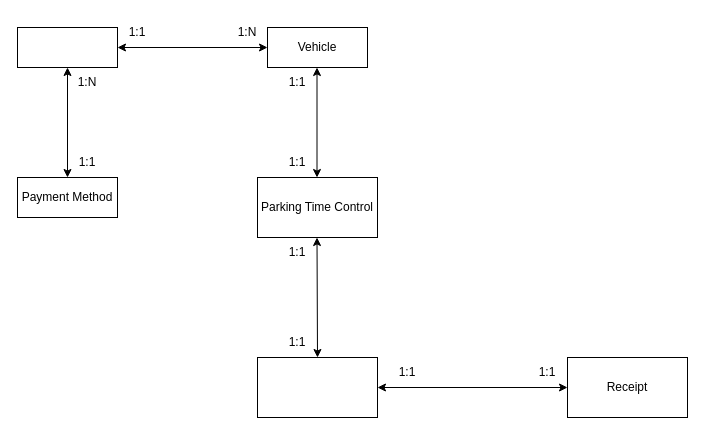
The diagram is 705 pixels wide and 435 high, and some of its shapes have lost their labels. Here are the shapes that lost their labels. From the top down, the centre of each, then its label:
At pixel 67 47: "Driver".
At pixel 317 387: "Billing".
